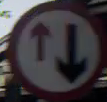Two way: (10, 8, 97, 85)
